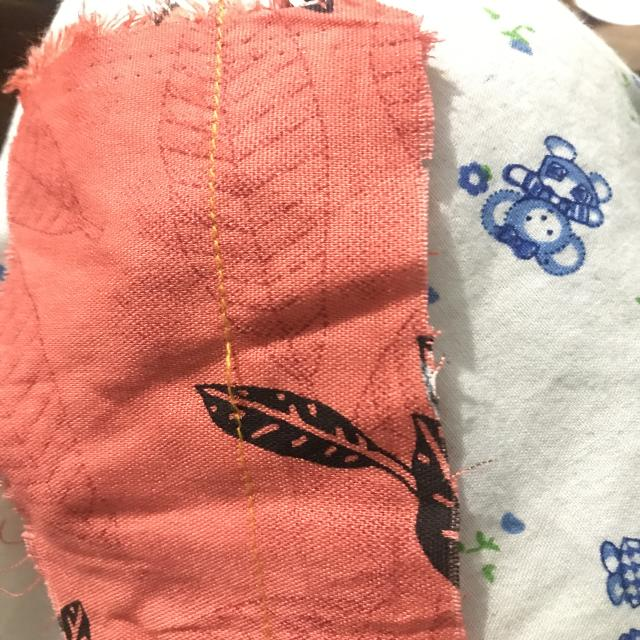good: (200, 146, 236, 262)
skip: (205, 332, 275, 453)
